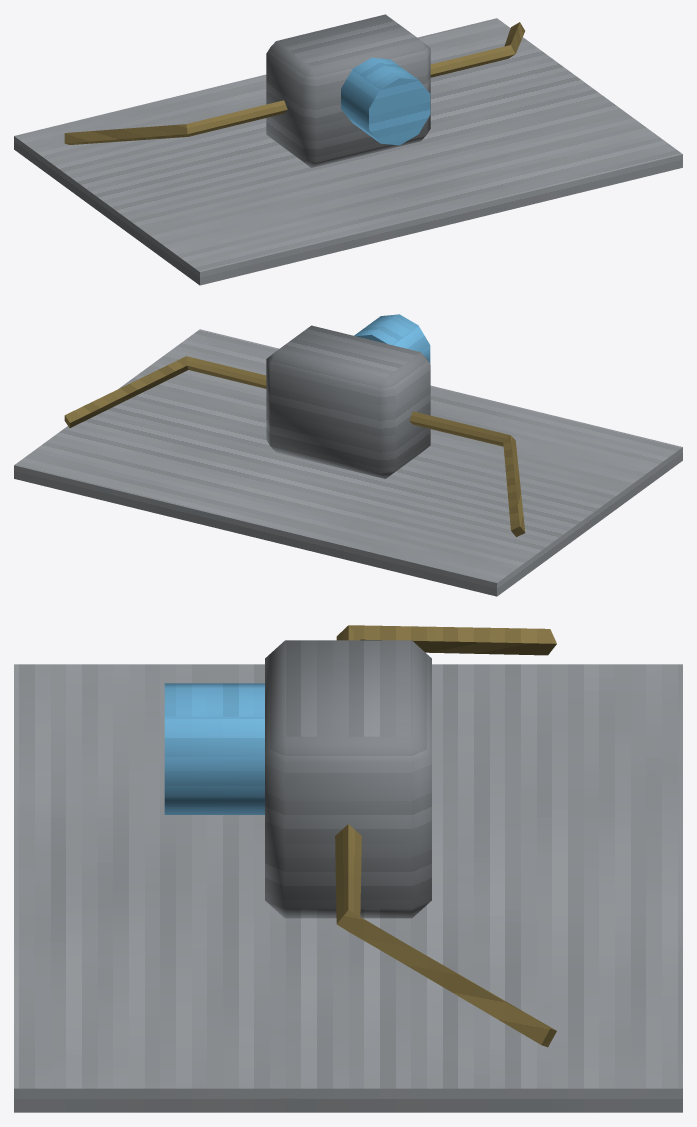
File: balanco_freio_n1.glb
3 renders of one model, top to bottom at view 1: azimuth 30°, elevation 25°; view 2: azimuth 150°, elevation 25°; view 3: azimuth 270°, elevation 25°, orthographic. The views are drawn at different scales.
Visible parts, largest first — view 1: balanco_freio_n1; view 2: balanco_freio_n1; view 3: balanco_freio_n1.
Part boxes in pixels (<box>): balanco_freio_n1: <box>14,14,682,285</box>; balanco_freio_n1: <box>14,314,682,596</box>; balanco_freio_n1: <box>14,625,682,1112</box>.
Size of the model in its own units: 0.3 by 0.07 by 0.2.
2 materials, 2 textured.
